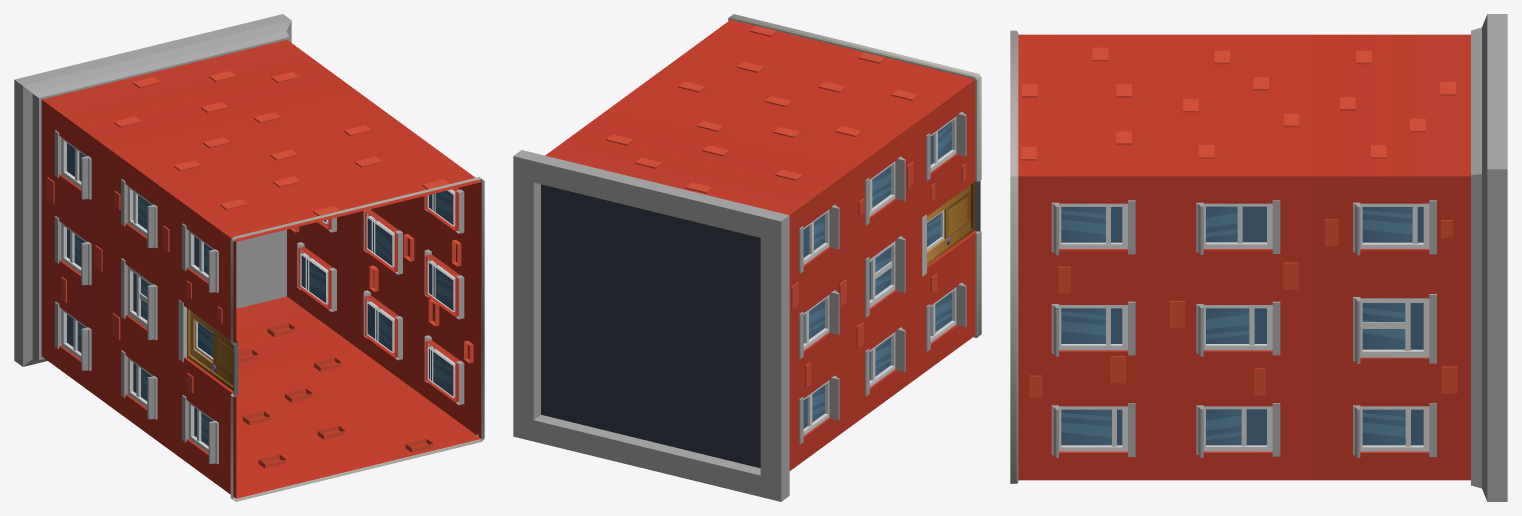
The model's file is Building_2_6_A.fbx.
The picture shows the model from 3 angles, left to right: view 1: azimuth 30°, elevation 25°; view 2: azimuth 150°, elevation 25°; view 3: azimuth 270°, elevation 25°; orthographic projection. The views are drawn at different scales.
Visible parts, largest first — view 1: Building_2_6_A; view 2: Building_2_6_A; view 3: Building_2_6_A.
Part boxes in pixels (x1,y1,x2,y2): Building_2_6_A: (14,14,484,501); Building_2_6_A: (513,14,981,501); Building_2_6_A: (1010,14,1507,501).
Size of the model in its own units: 620 by 620 by 840.
